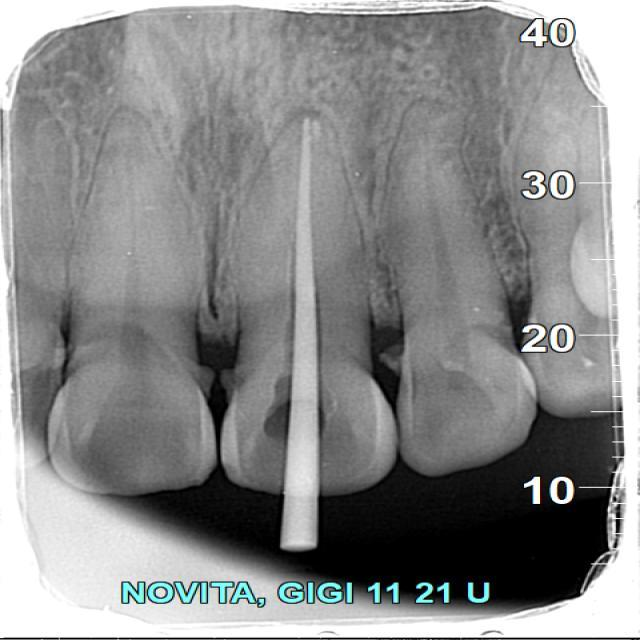individual-tooth-8tto: (38, 115, 228, 497), (225, 108, 406, 498), (380, 89, 528, 465)
